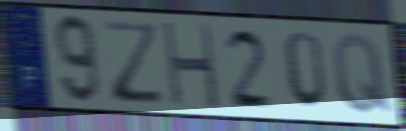0: (282, 30, 328, 112)
2: (222, 26, 274, 111)
9: (52, 12, 102, 107)
H: (160, 20, 222, 111)
Q: (329, 31, 394, 117)
Z: (100, 18, 167, 107)
